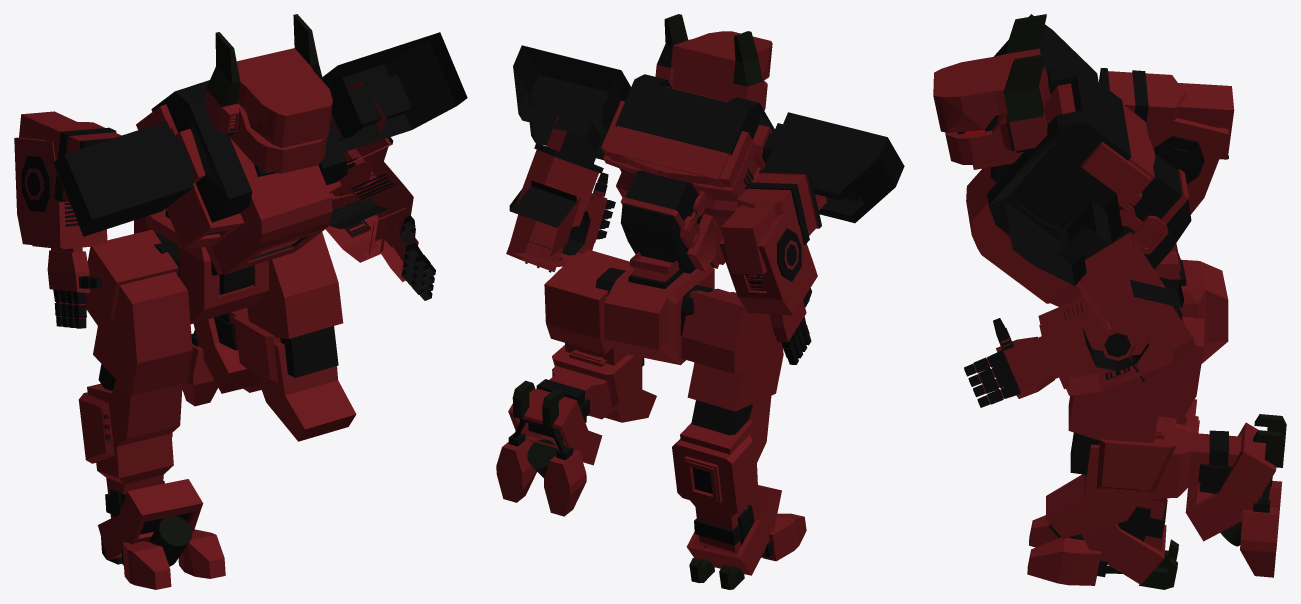
File: walk6.obj
3 renders of one model, left to right at view 1: azimuth 30°, elevation 25°; view 2: azimuth 150°, elevation 25°; view 3: azimuth 270°, elevation 25°, orthographic. The views are drawn at different scales.
Parts seen in each view (by area): view 1: R_UpperShoulder_Cube.030; view 2: R_UpperShoulder_Cube.030; view 3: R_UpperShoulder_Cube.030.
Part boxes in pixels (x1,y1,x2,y2): R_UpperShoulder_Cube.030: (14, 14, 467, 589); R_UpperShoulder_Cube.030: (496, 14, 904, 589); R_UpperShoulder_Cube.030: (933, 14, 1286, 589).
Bounding box in the file's own units: 1.43 × 1.93 × 1.06.
